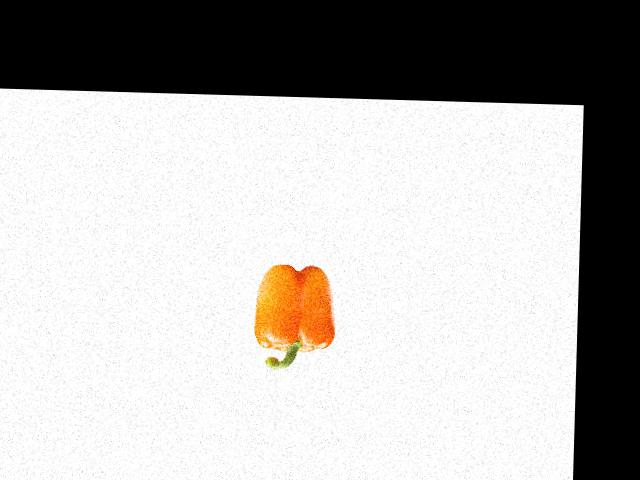bell_pepper: (244, 262, 344, 371)
